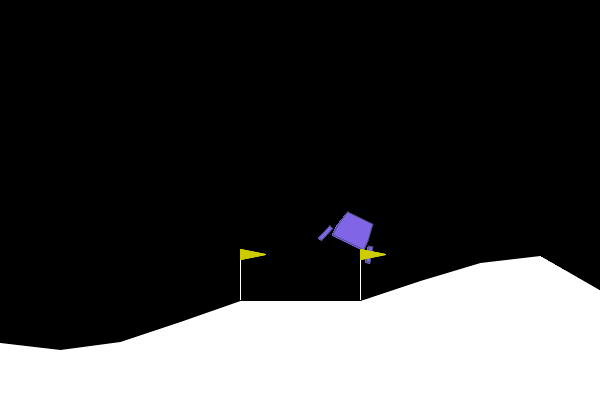lander: (316, 203, 388, 266)
